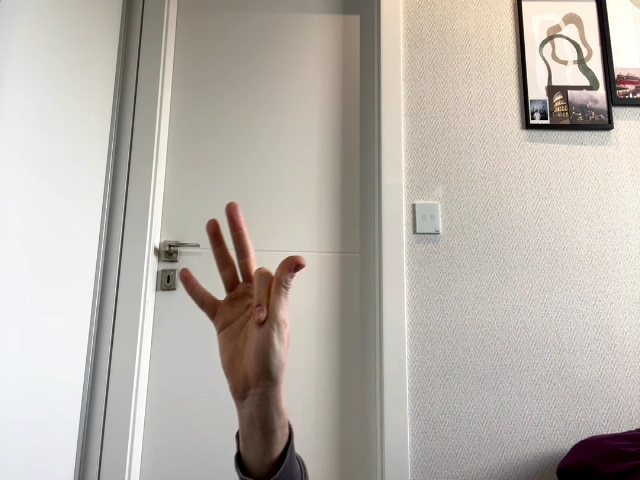F: (177, 202, 305, 385)
